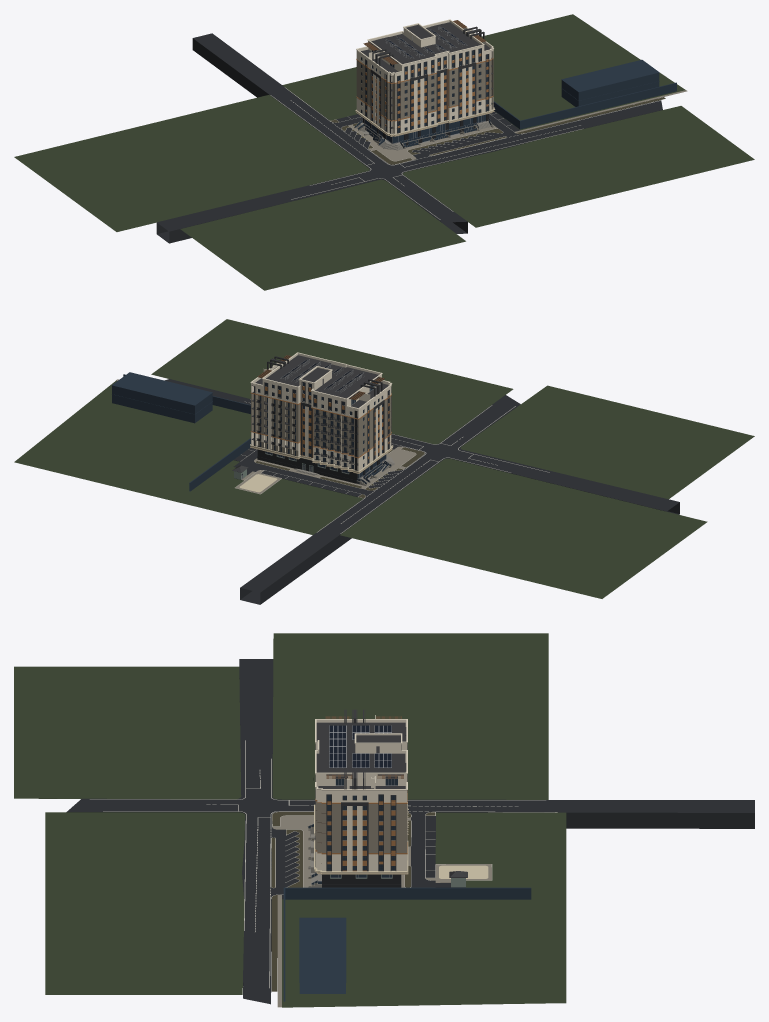
File: levakant-model.glb
The picture shows the model from 3 angles, top to bottom: view 1: azimuth 30°, elevation 25°; view 2: azimuth 150°, elevation 25°; view 3: azimuth 270°, elevation 25°; orthographic projection. The views are drawn at different scales.
Parts seen in each view (by area): view 1: site, roof, L-1, L10_mansard, L01, L02, L09, L04, L06, L07, L05, L03 (+1 smaller); view 2: site, roof, L-1, L10_mansard, L02, L01, L04, L05, L06, L09, L07, L03 (+1 smaller); view 3: site, roof, L-1, L10_mansard, L02, L01, L04, L05, L06, L07, L03, L08 (+1 smaller).
Boxes of the visible parts, bbox=[...] form: site: bbox=[14, 14, 754, 290]; roof: bbox=[363, 19, 485, 66]; L-1: bbox=[347, 113, 514, 160]; L10_mansard: bbox=[356, 27, 493, 76]; L01: bbox=[355, 112, 492, 146]; L02: bbox=[355, 104, 495, 136]; L09: bbox=[356, 51, 493, 83]; L04: bbox=[356, 89, 493, 121]; L06: bbox=[356, 74, 493, 106]; L07: bbox=[356, 66, 493, 98]; L05: bbox=[356, 81, 493, 113]; L03: bbox=[356, 96, 493, 128]; site: bbox=[14, 319, 754, 604]; roof: bbox=[257, 352, 384, 401]; L-1: bbox=[234, 449, 414, 489]; L10_mansard: bbox=[250, 362, 392, 411]; L02: bbox=[250, 440, 393, 473]; L01: bbox=[252, 448, 392, 482]; L04: bbox=[250, 424, 391, 458]; L05: bbox=[251, 416, 391, 450]; L06: bbox=[251, 409, 391, 442]; L09: bbox=[250, 386, 391, 419]; L07: bbox=[251, 401, 391, 435]; L03: bbox=[251, 432, 391, 465]; site: bbox=[14, 633, 754, 1007]; roof: bbox=[315, 709, 407, 783]; L-1: bbox=[280, 817, 424, 894]; L10_mansard: bbox=[315, 723, 407, 793]; L02: bbox=[314, 802, 408, 874]; L01: bbox=[308, 824, 408, 885]; L04: bbox=[315, 791, 407, 854]; L05: bbox=[315, 823, 407, 844]; L06: bbox=[315, 813, 407, 834]; L07: bbox=[315, 804, 407, 824]; L03: bbox=[315, 851, 407, 864]; L08: bbox=[315, 801, 407, 814].
Bounding box in the file's own units: 252 × 42.1 × 210.
